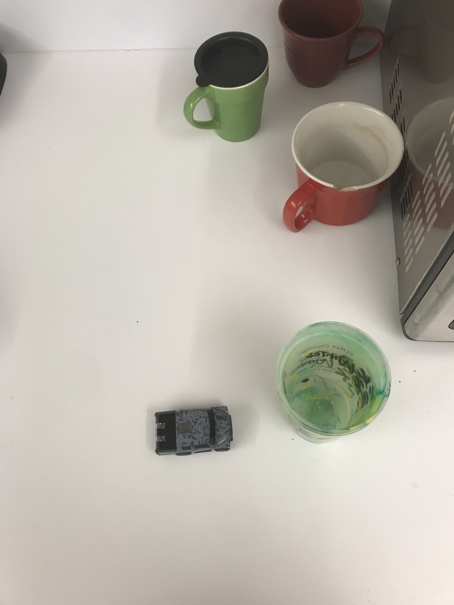MXT: (154, 405, 236, 458)
